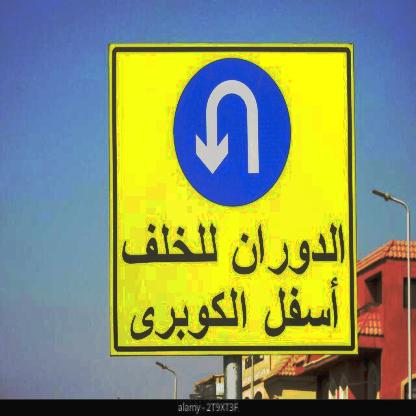U-turn: (159, 55, 298, 211)
